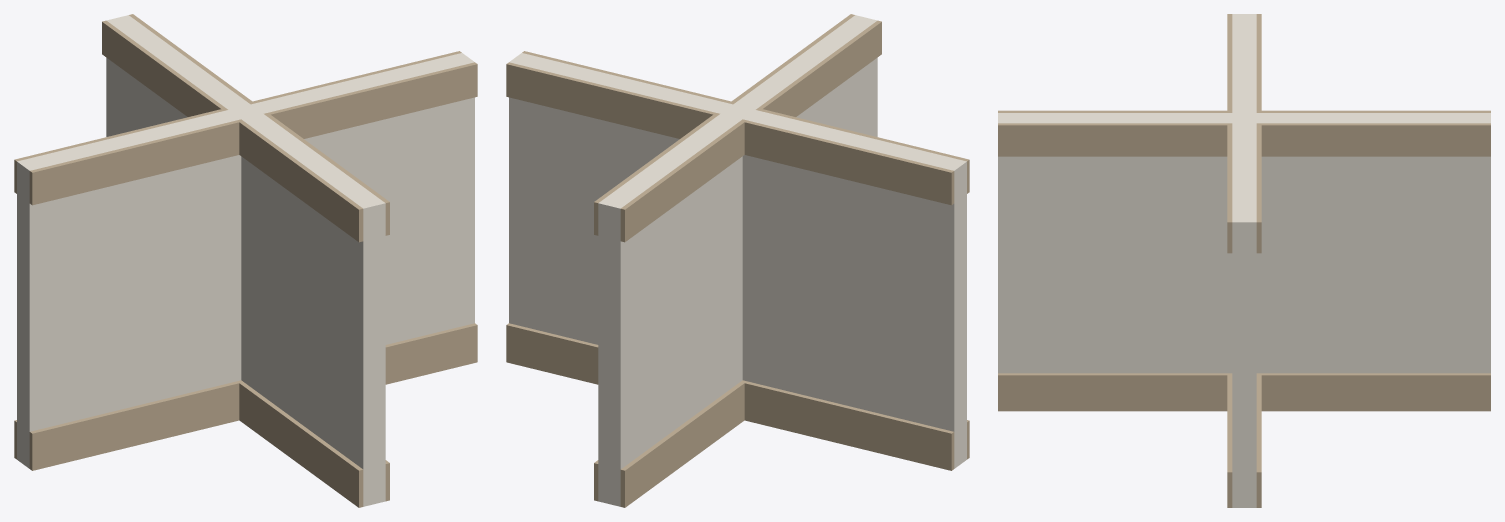
The model's file is partitionLowCross.glb.
3 views of the same model, side by side, from view 1: azimuth 30°, elevation 25°; view 2: azimuth 150°, elevation 25°; view 3: azimuth 270°, elevation 25° (orthographic). The views are drawn at different scales.
Parts seen in each view (by area): view 1: partitionLowCross; view 2: partitionLowCross; view 3: partitionLowCross.
Boxes of the visible parts, x1,y1,x2,y2 form: partitionLowCross: (14, 14, 477, 507); partitionLowCross: (506, 14, 969, 507); partitionLowCross: (998, 14, 1490, 507).
Size of the model in its own units: 1 by 0.64 by 1.
Materials: 1 (1 with a texture image).
